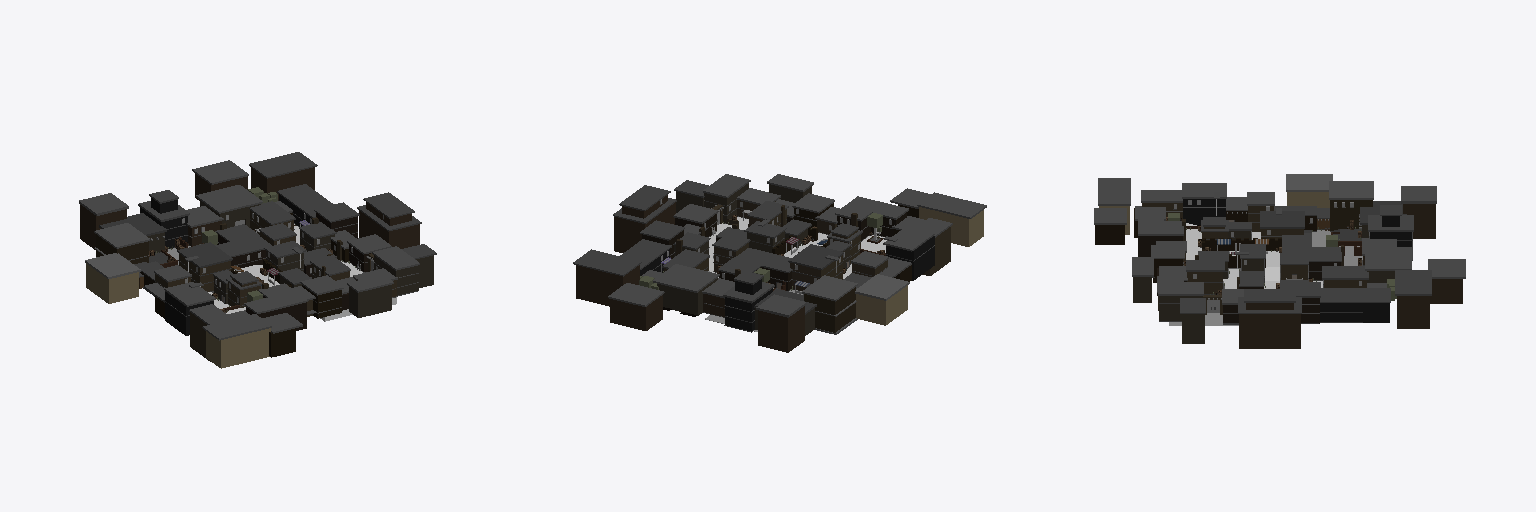
3 renders of one model, left to right at view 1: azimuth 30°, elevation 25°; view 2: azimuth 150°, elevation 25°; view 3: azimuth 270°, elevation 25°, orthographic.
Bounding box in the file's own units: 869 × 163 × 970.
759 materials, 2 textured.